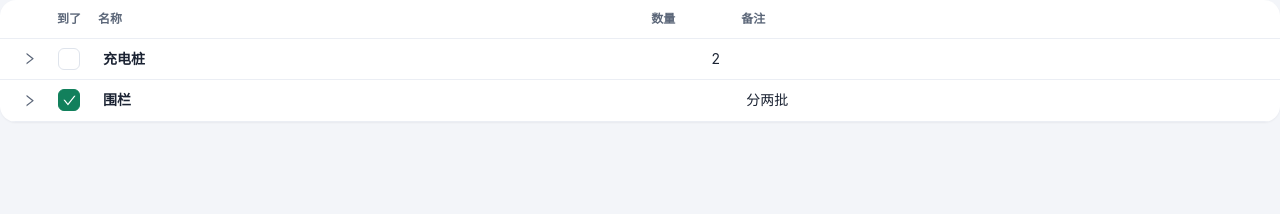
Test: 可编辑表格 › labels every cell for the phone card and expands a row on demand
The width and height of the screenshot is (1280, 214).
Expected: the text "充电桩 的明细" is not shown
Step 1. Click the 1st button named "记录 0" → (30, 59), box [14,43,46,75]
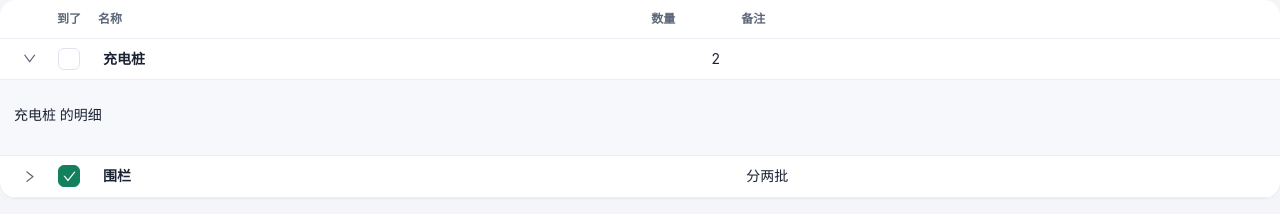
Expected: the text "充电桩 的明细" is shown, [14,106,102,123]
